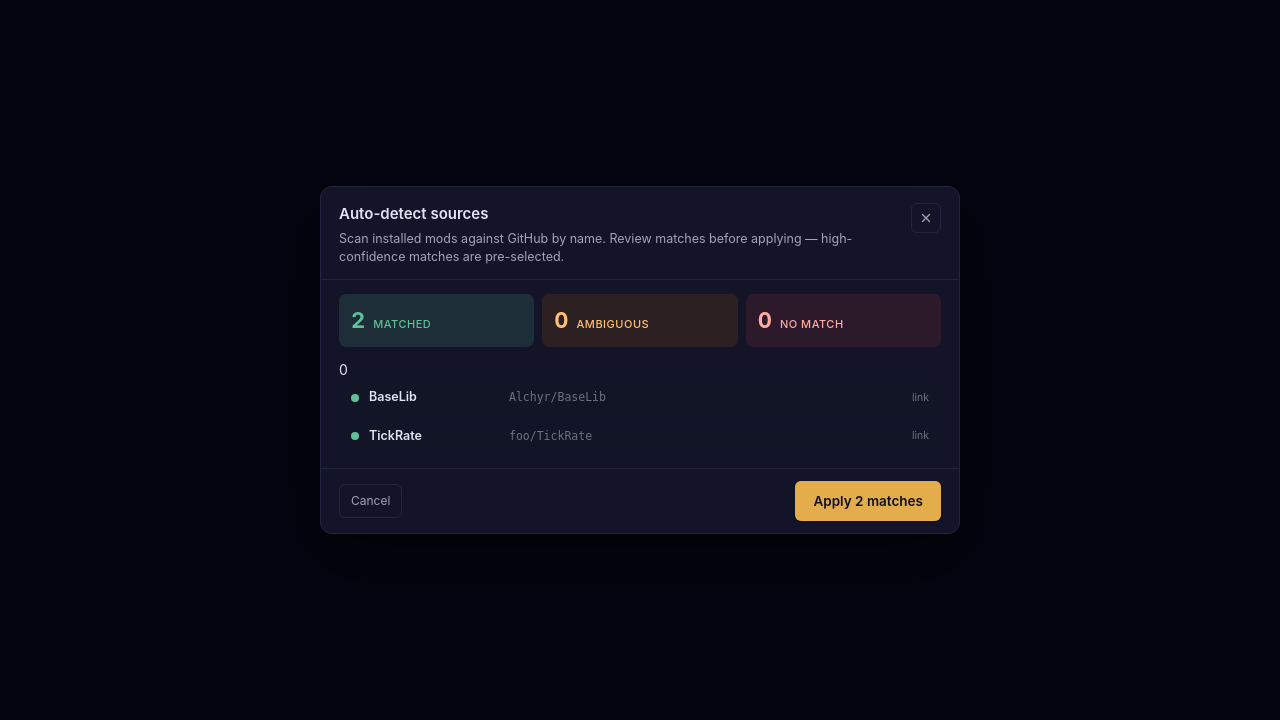
Test: <AutoDetectModal> › handleApply › writes set_mod_source for every non-skipped high-confidence match and closes
Step 1. Click the button "Apply 2 matches" → (868, 501), box [796,481,941,521]
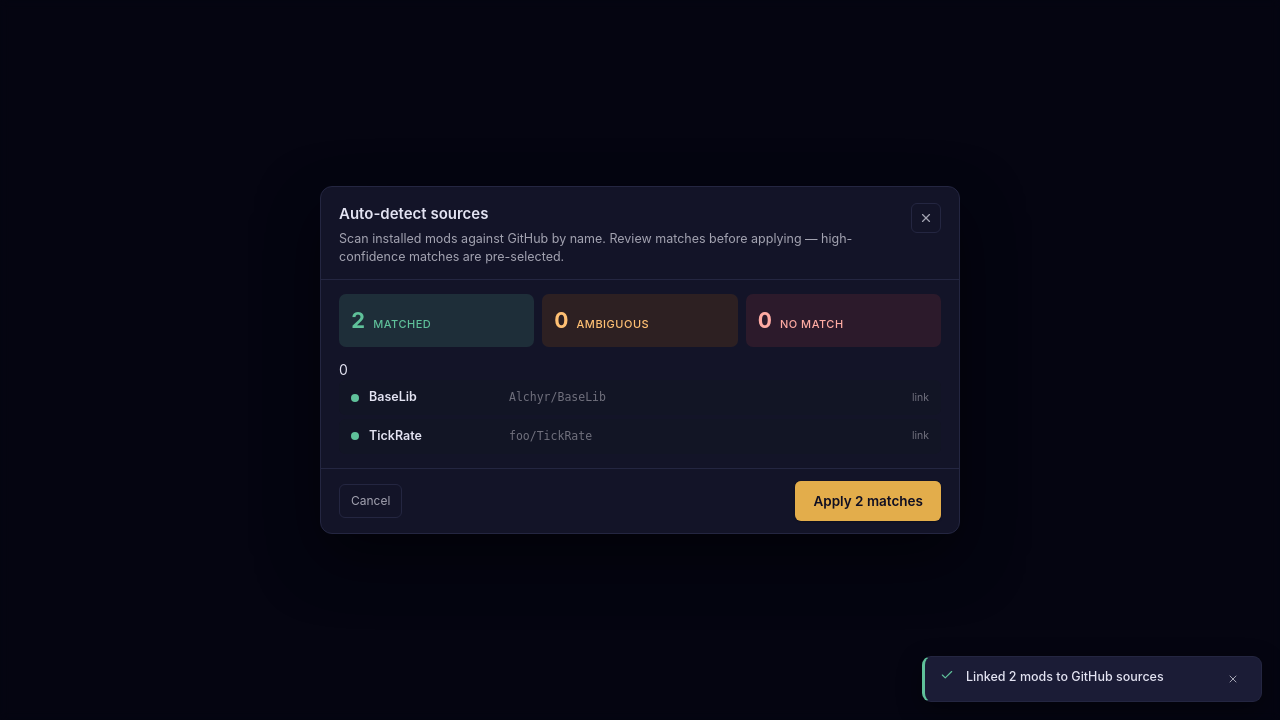
Check: the text "Linked 2 mods to GitHub sources" is shown, box [966,669,1164,684]
